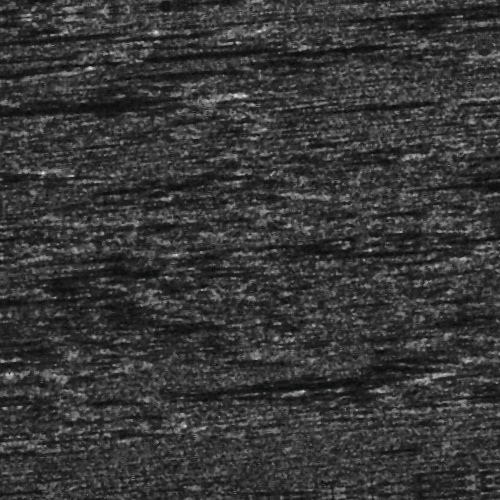object: (196, 86, 259, 99), (28, 52, 111, 59), (99, 18, 182, 25), (232, 14, 243, 41), (369, 383, 422, 388), (0, 112, 47, 117), (429, 113, 470, 118)
shadow: (0, 86, 227, 99), (143, 14, 237, 41), (177, 383, 395, 388), (0, 18, 140, 25), (315, 113, 449, 118), (0, 52, 69, 59), (354, 6, 500, 9), (174, 48, 313, 51)
